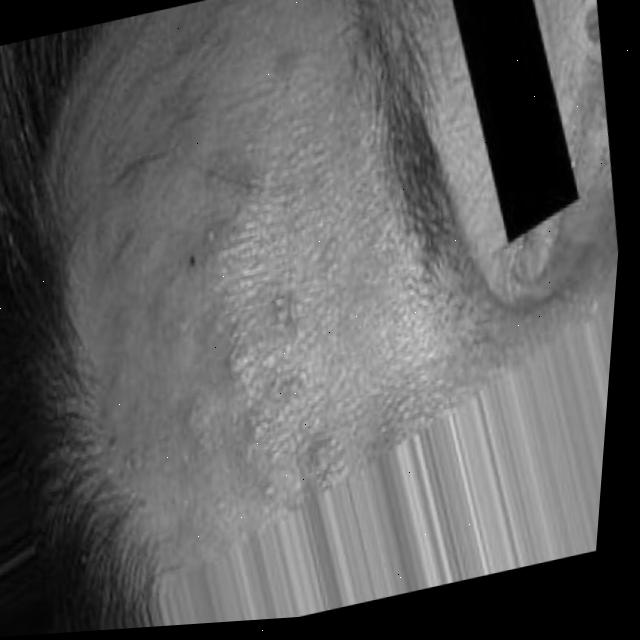Rosacea: (104, 101, 373, 497)
